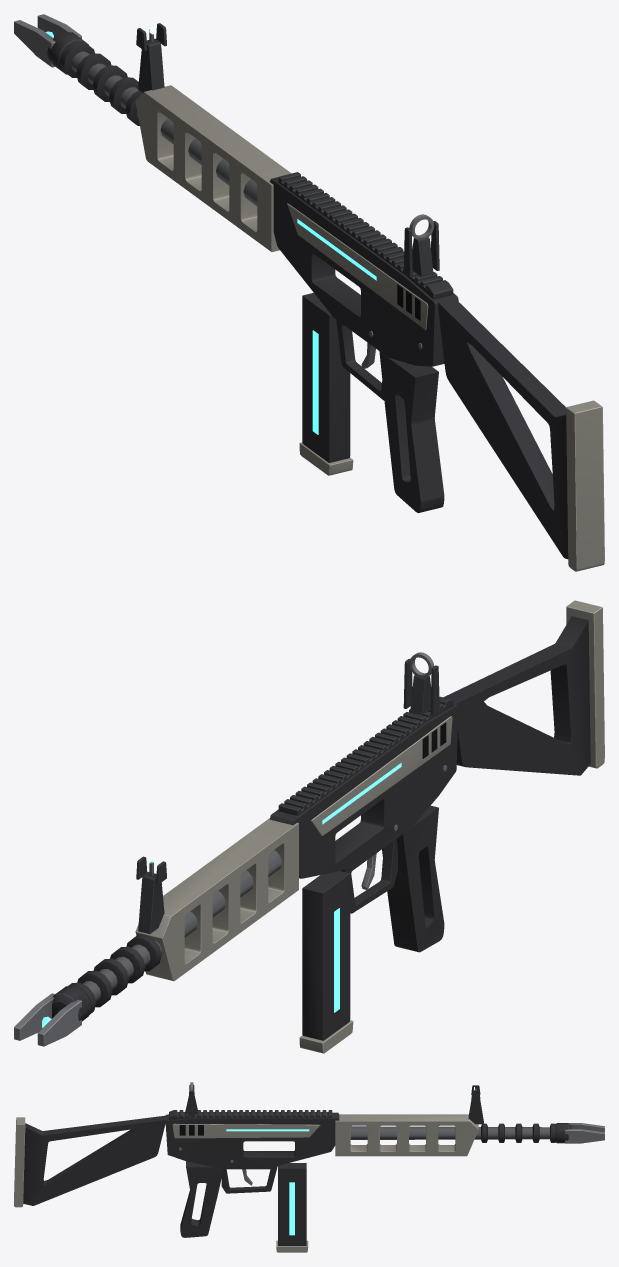
The model's file is e_carbine.glb.
3 renders of one model, top to bottom at view 1: azimuth 30°, elevation 25°; view 2: azimuth 150°, elevation 25°; view 3: azimuth 270°, elevation 25°, orthographic. The views are drawn at different scales.
Visible parts, largest first — view 1: Body, ThirdPersonOnly, Cell, IronSight; view 2: Body, ThirdPersonOnly, Cell, IronSight; view 3: Body, ThirdPersonOnly, Cell, IronSight.
Boxes of the visible parts, left/top/right/bottom form: Body: left=14, top=14, right=458, bottom=512; ThirdPersonOnly: left=437, top=297, right=604, bottom=571; Cell: left=299, top=292, right=353, bottom=475; IronSight: left=136, top=23, right=439, bottom=277; Body: left=14, top=696, right=458, bottom=1046; ThirdPersonOnly: left=443, top=600, right=604, bottom=775; Cell: left=299, top=871, right=353, bottom=1053; IronSight: left=136, top=652, right=439, bottom=933; Body: left=165, top=1110, right=604, bottom=1237; ThirdPersonOnly: left=14, top=1115, right=166, bottom=1207; Cell: left=276, top=1163, right=308, bottom=1252; IronSight: left=185, top=1082, right=483, bottom=1124.
Bounding box in the file's own units: 0.0357 × 0.3208 × 1.03.
